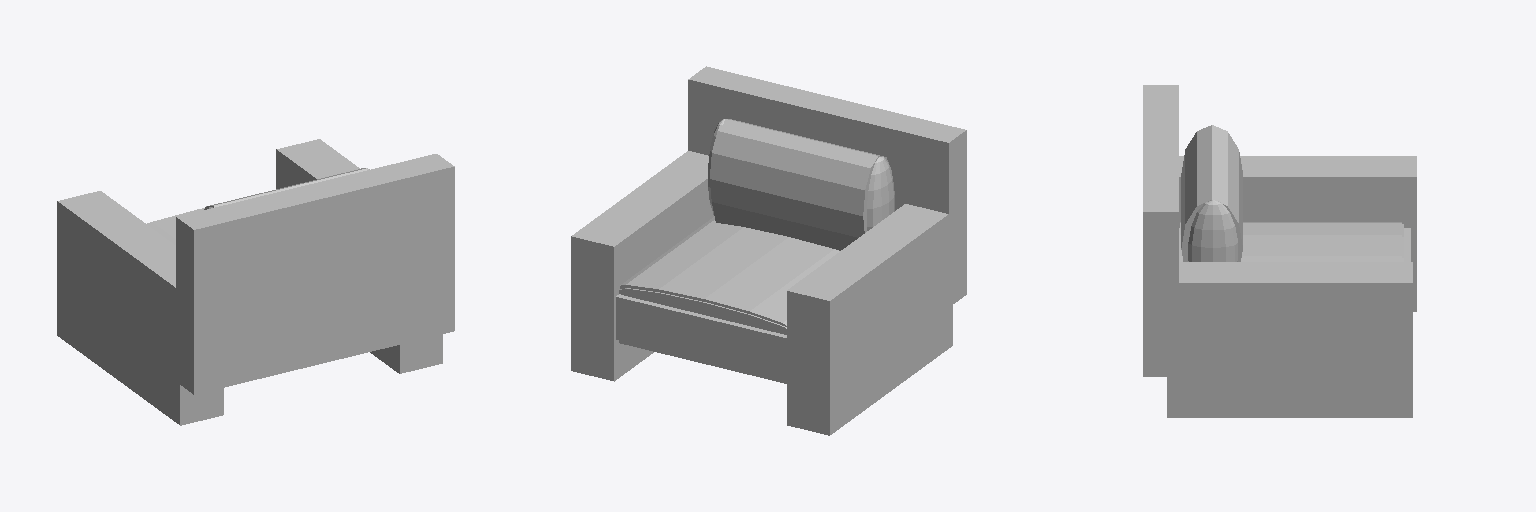
Rendered from chair.obj.
The picture shows the model from 3 angles: view 1: azimuth 30°, elevation 25°; view 2: azimuth 150°, elevation 25°; view 3: azimuth 270°, elevation 25°; orthographic projection.
Visible parts, largest first — view 1: group[number redacted], group[number redacted], group[number redacted]; view 2: group[number redacted], group[number redacted], group[number redacted], group[number redacted], group[number redacted], group[number redacted], group[number redacted], group[number redacted]; view 3: group[number redacted], group[number redacted], group[number redacted], group[number redacted], group[number redacted], group[number redacted].
Boxes of the visible parts, box(x1,y1,x2,y2) form: group[number redacted]: box(176, 154, 454, 394); group[number redacted]: box(57, 191, 223, 425); group[number redacted]: box(276, 139, 442, 373); group[number redacted]: box(787, 204, 952, 435); group[number redacted]: box(688, 66, 966, 306); group[number redacted]: box(710, 119, 891, 250); group[number redacted]: box(571, 151, 713, 381); group[number redacted]: box(620, 216, 839, 326); group[number redacted]: box(616, 294, 786, 380); group[number redacted]: box(619, 288, 786, 334); group[number redacted]: box(867, 157, 894, 230); group[number redacted]: box(1167, 262, 1412, 417); group[number redacted]: box(1179, 156, 1416, 311); group[number redacted]: box(1143, 85, 1178, 376); group[number redacted]: box(1180, 222, 1401, 261); group[number redacted]: box(1181, 125, 1242, 261); group[number redacted]: box(1188, 200, 1237, 261).
Size of the model in its own units: 2.53 by 2 by 2.3.